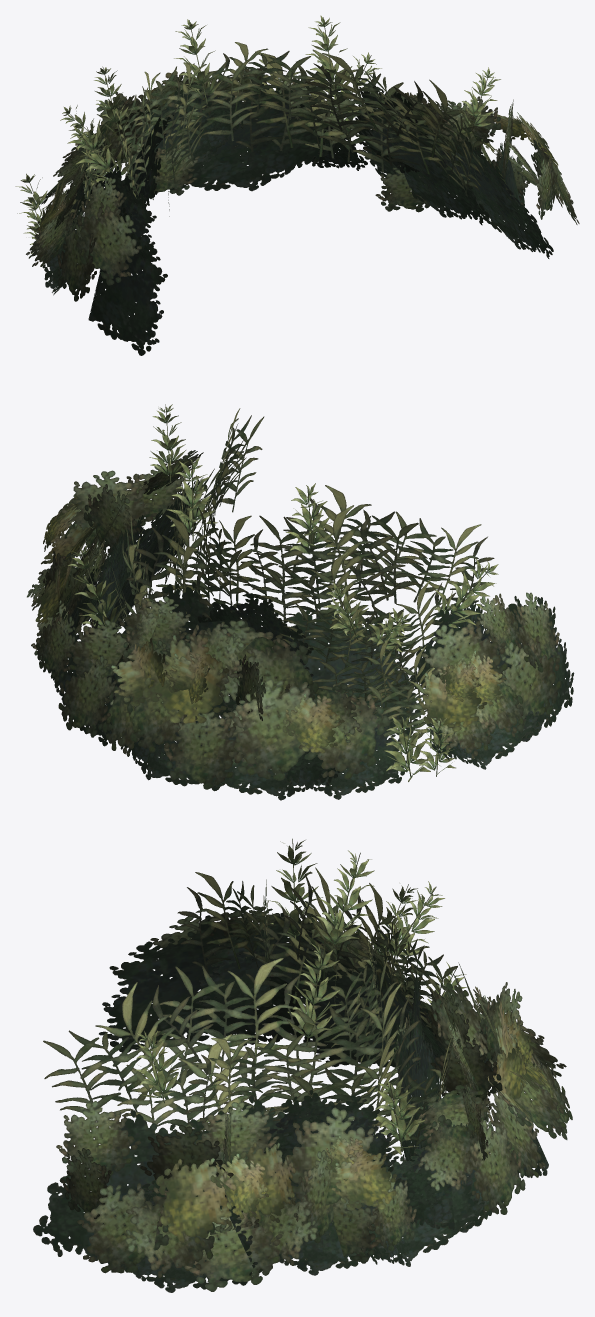
File: Bush6.fbx
The picture shows the model from 3 angles, top to bottom: view 1: azimuth 30°, elevation 25°; view 2: azimuth 150°, elevation 25°; view 3: azimuth 270°, elevation 25°; orthographic projection. The views are drawn at different scales.
Visible parts, largest first — view 1: SM_cmn_mount_Bush_05a; view 2: SM_cmn_mount_Bush_05a; view 3: SM_cmn_mount_Bush_05a.
Boxes of the visible parts, left/top/right/bottom form: SM_cmn_mount_Bush_05a: left=15, top=15, right=579, bottom=355; SM_cmn_mount_Bush_05a: left=27, top=404, right=574, bottom=800; SM_cmn_mount_Bush_05a: left=33, top=838, right=572, bottom=1292.
Bounding box in the file's own units: 516 × 245 × 417.
